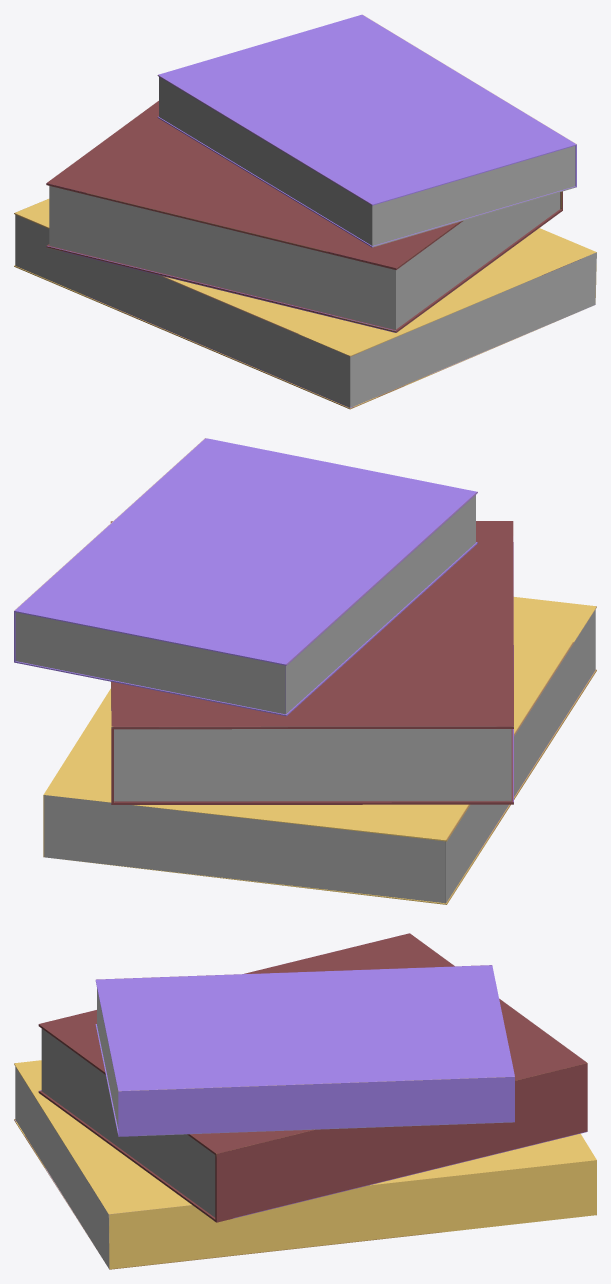
The model's file is books5.fbx.
3 renders of one model, top to bottom at view 1: azimuth 30°, elevation 25°; view 2: azimuth 150°, elevation 25°; view 3: azimuth 270°, elevation 25°, orthographic. The views are drawn at different scales.
Parts seen in each view (by area): view 1: Book2.003; view 2: Book2.003; view 3: Book2.003.
Boxes of the visible parts, left/top/right/bottom form: Book2.003: left=14, top=14, right=596, bottom=409; Book2.003: left=14, top=438, right=596, bottom=904; Book2.003: left=14, top=933, right=596, bottom=1269.
Bounding box in the file's own units: 28.96 × 10.52 × 32.33.
